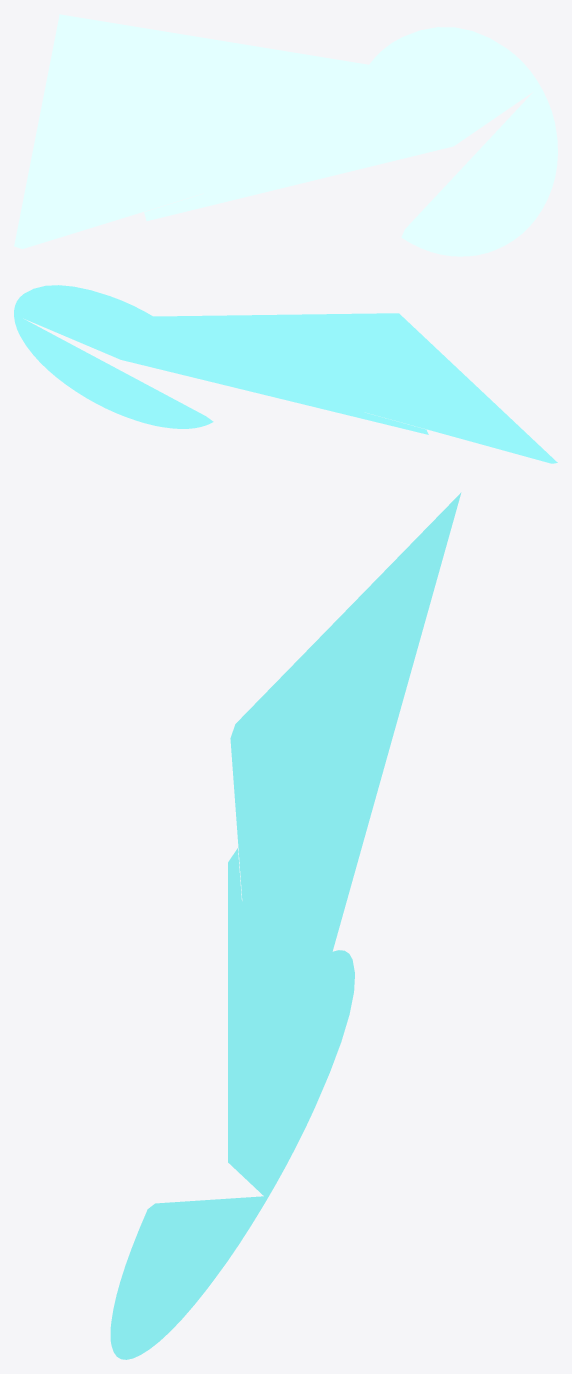
File: Rune_Glow_6.fbx
3 views of the same model, one above another, from view 1: azimuth 30°, elevation 25°; view 2: azimuth 150°, elevation 25°; view 3: azimuth 270°, elevation 25° (orthographic). The views are drawn at different scales.
Visible parts, largest first — view 1: Rune6; view 2: Rune6; view 3: Rune6.
Boxes of the visible parts, box(x1,y1,x2,y2) form: Rune6: box(14, 14, 557, 256); Rune6: box(14, 285, 557, 463); Rune6: box(110, 492, 461, 1359).
Bounding box in the file's own units: 0.7688 × 0.3509 × 0.2168.
